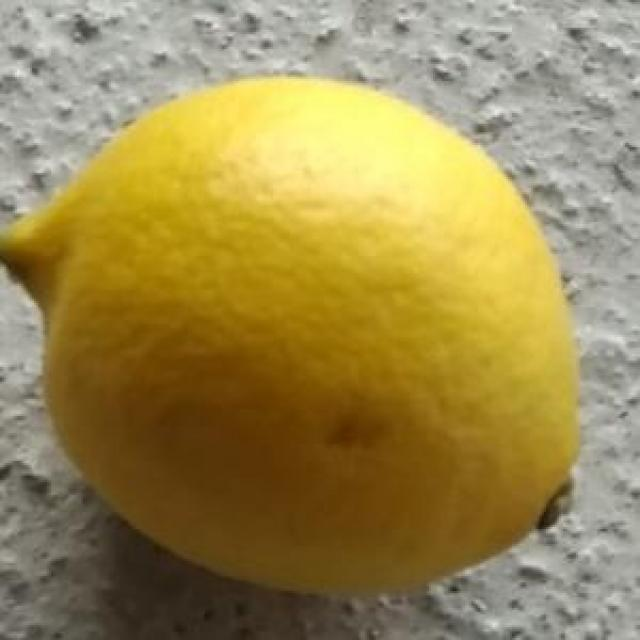lemon: (2, 65, 588, 608)
